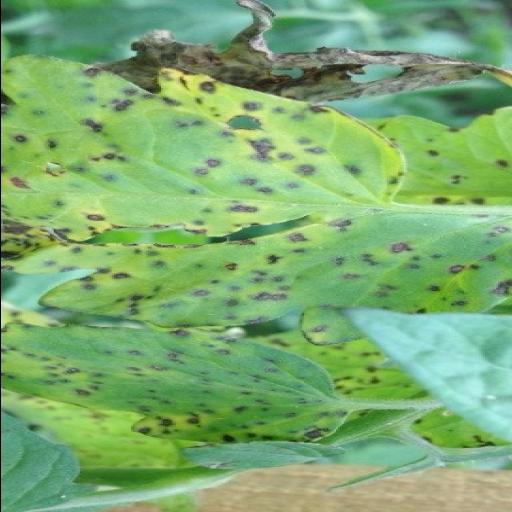disease_tomato: (0, 53, 512, 331), (0, 322, 364, 443)
